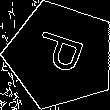P_E: (29, 30, 92, 81)
